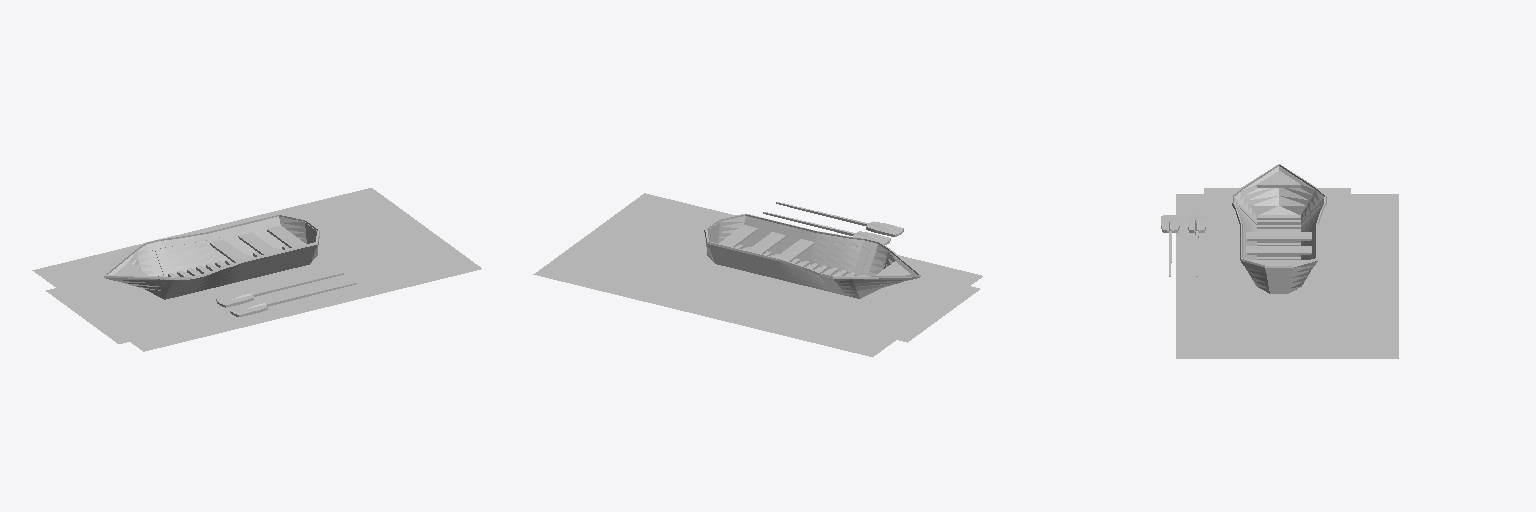
File: boat.obj
3 views of the same model, side by side, from view 1: azimuth 30°, elevation 25°; view 2: azimuth 150°, elevation 25°; view 3: azimuth 270°, elevation 25° (orthographic).
Parts seen in each view (by area): view 1: Plane003, pCube8, Plane002, pCube10, pCube9; view 2: Plane003, pCube8, Plane002, pCube10, pCube9; view 3: Plane003, Plane002, pCube8.
Part boxes in pixels (x1,y1,x2,y2): Plane003: (32, 188, 481, 351); pCube8: (104, 214, 319, 299); Plane002: (46, 215, 430, 343); pCube10: (230, 282, 356, 316); pCube9: (216, 272, 343, 307); Plane003: (533, 193, 982, 356); pCube8: (704, 214, 920, 298); Plane002: (596, 213, 979, 342); pCube10: (776, 202, 903, 236); pCube9: (763, 212, 890, 244); Plane003: (1176, 194, 1398, 358); Plane002: (1204, 188, 1350, 340); pCube8: (1232, 164, 1326, 293).
Bounding box in the file's own units: 12.71 × 1.24 × 7.47.